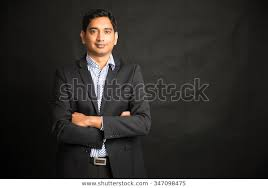Indian_Male: (82, 10, 123, 58)
